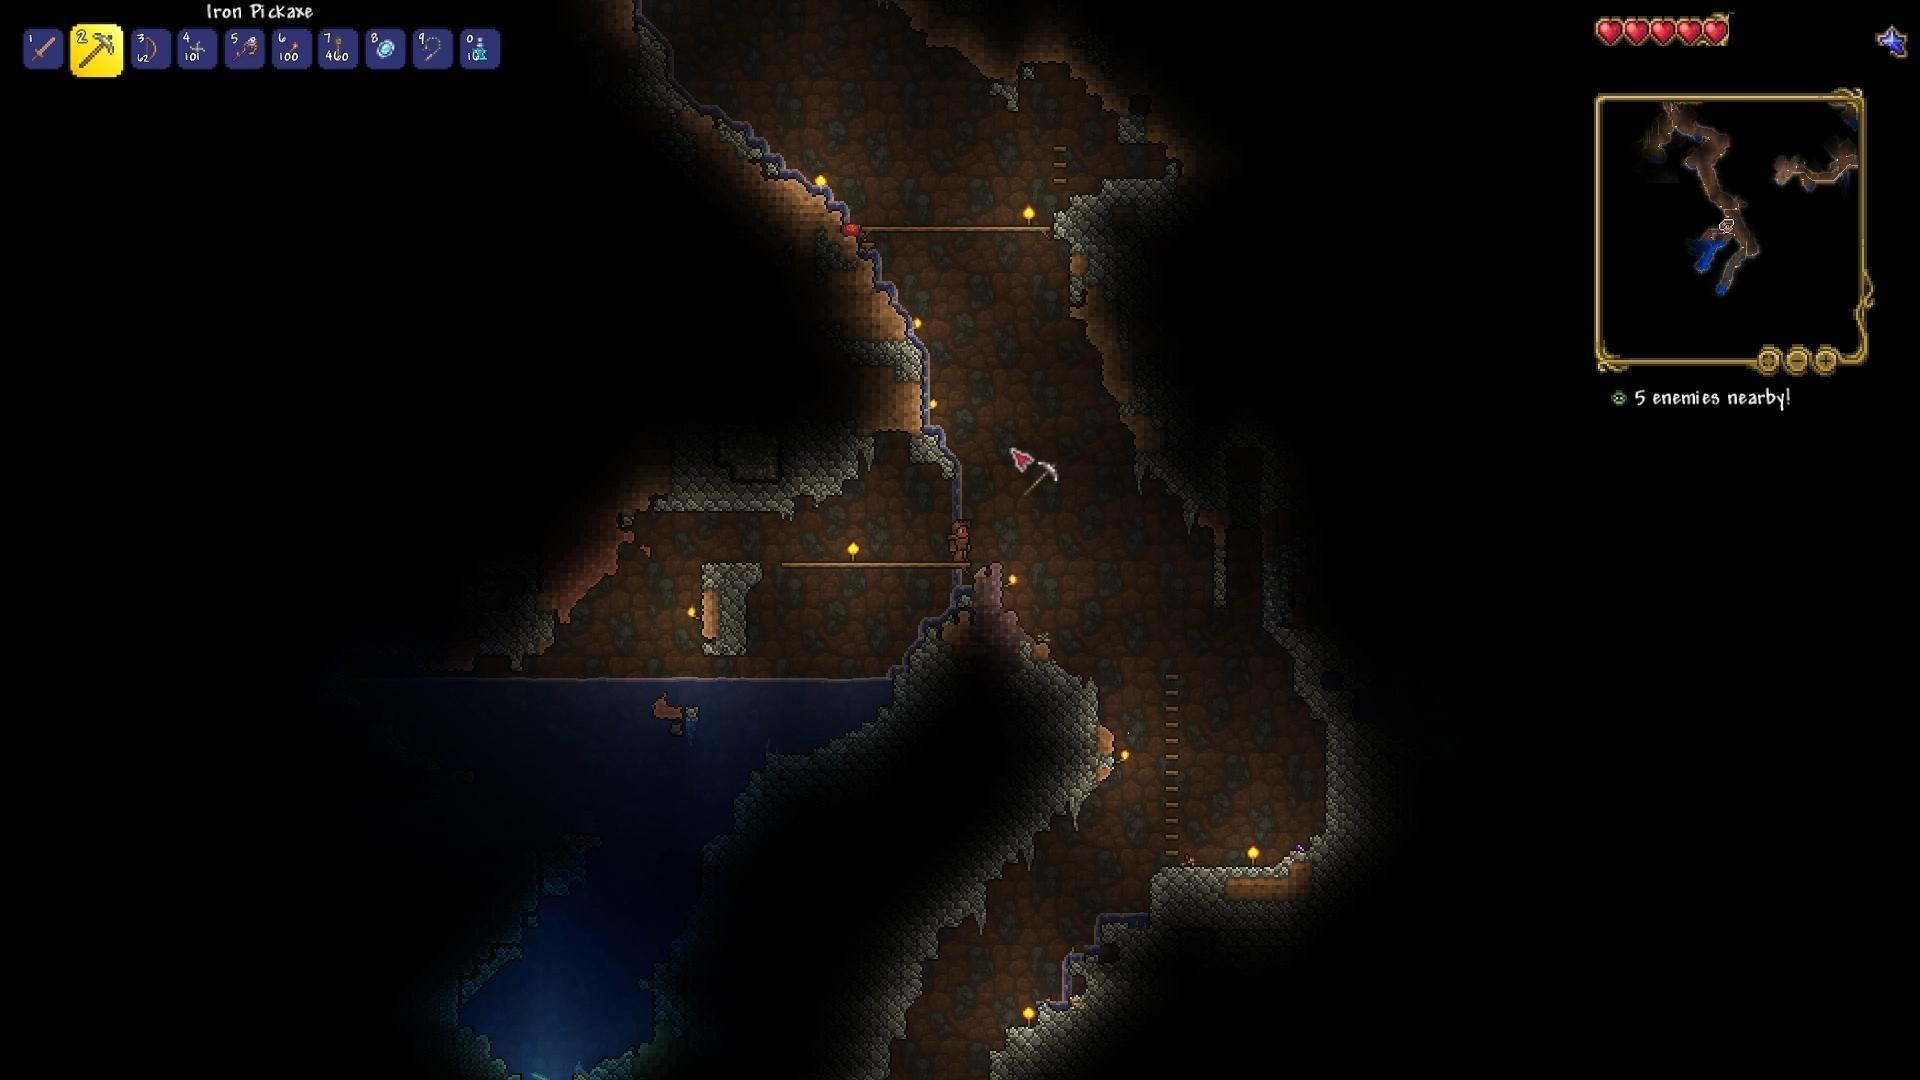heart: (1702, 17, 1733, 51), (1593, 16, 1626, 46), (1676, 15, 1704, 50), (1650, 16, 1676, 49), (1625, 15, 1651, 44)
liquid: (480, 657, 890, 695)
stone: (881, 646, 1097, 808), (839, 853, 993, 1076), (764, 719, 877, 877), (985, 952, 1124, 1080), (1309, 723, 1407, 885), (645, 463, 872, 526), (1055, 166, 1174, 277), (1250, 596, 1348, 728), (1139, 872, 1232, 986), (695, 553, 764, 661), (857, 345, 928, 402)
